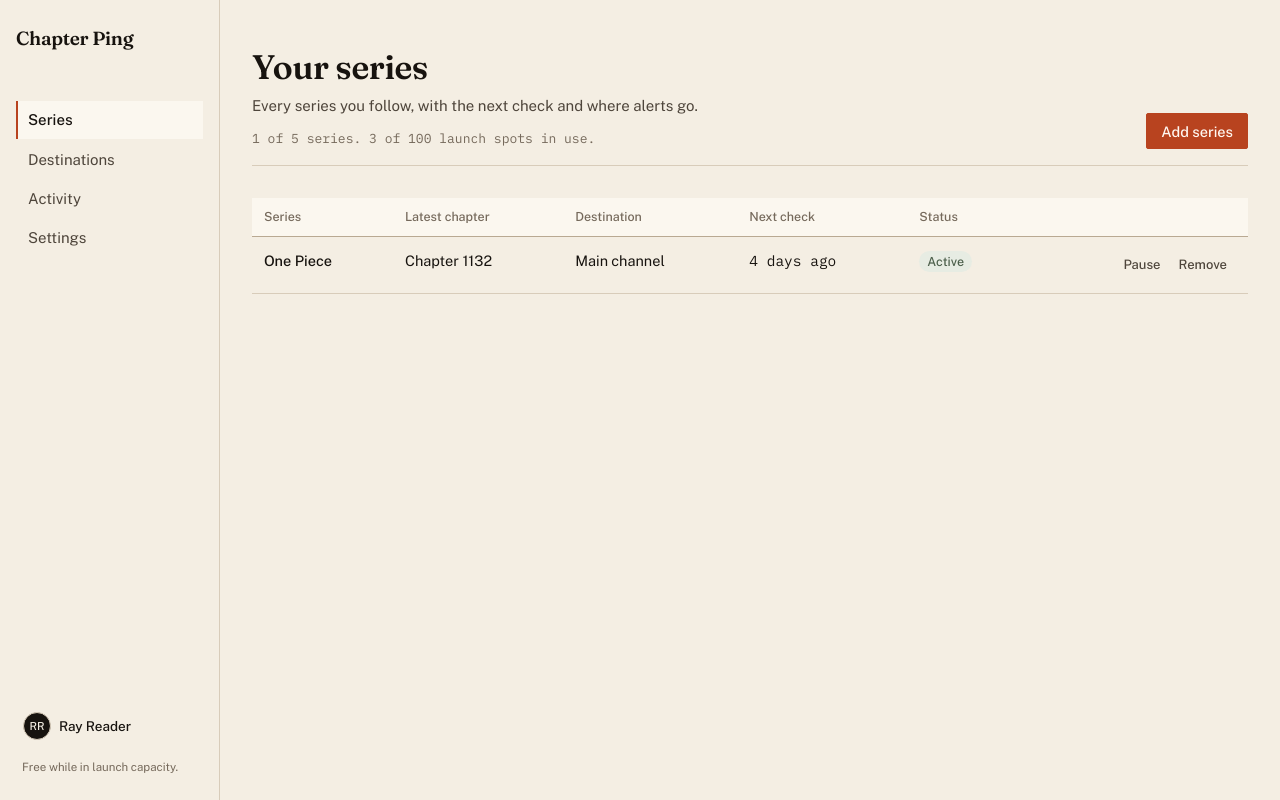
series search › browses the source without leaving the app and previews what you pick
Expected: the link "One Piece" is shown, [264,252,332,270]
Click the button "Add series" at (1197, 132), box [1146,114,1248,150]
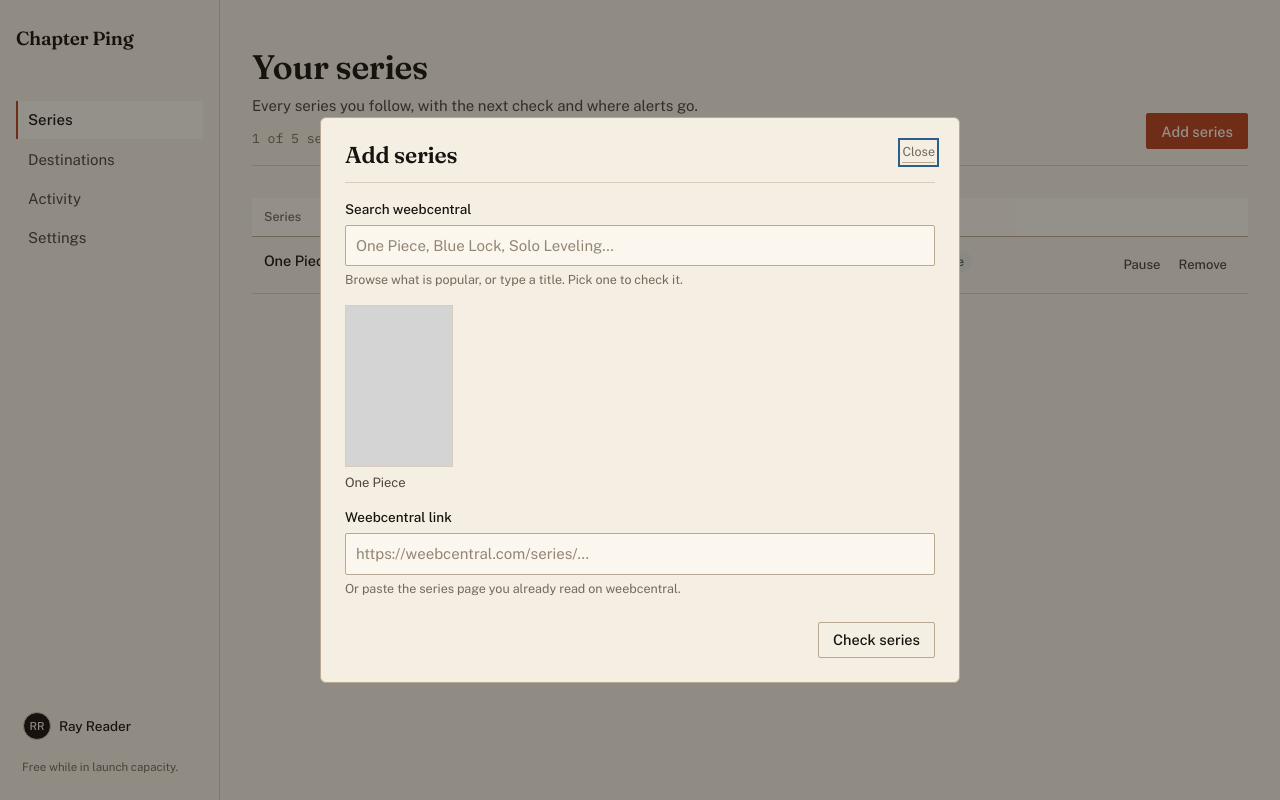
Click the button "One Piece" at (399, 398), box [345,305,453,492]
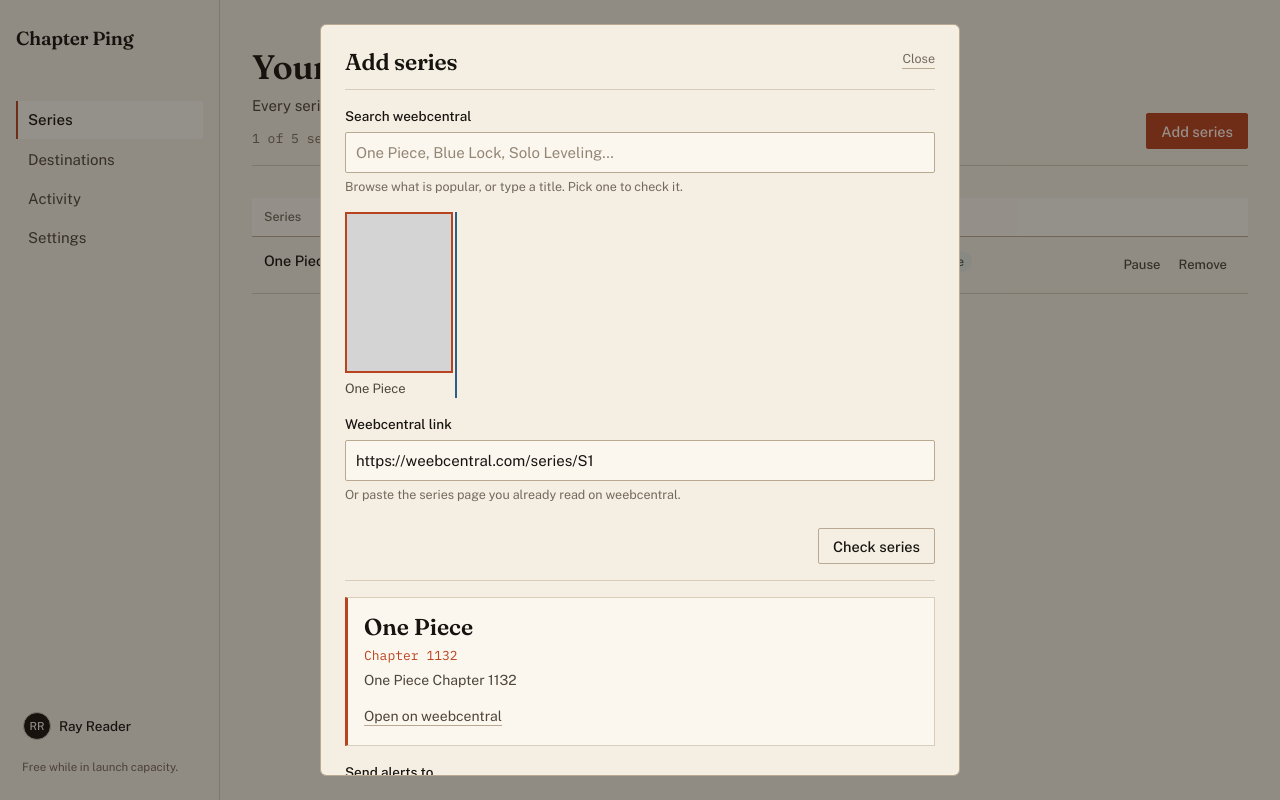
Expected: the text "Chapter 1132" is shown, [364,647,458,664]
